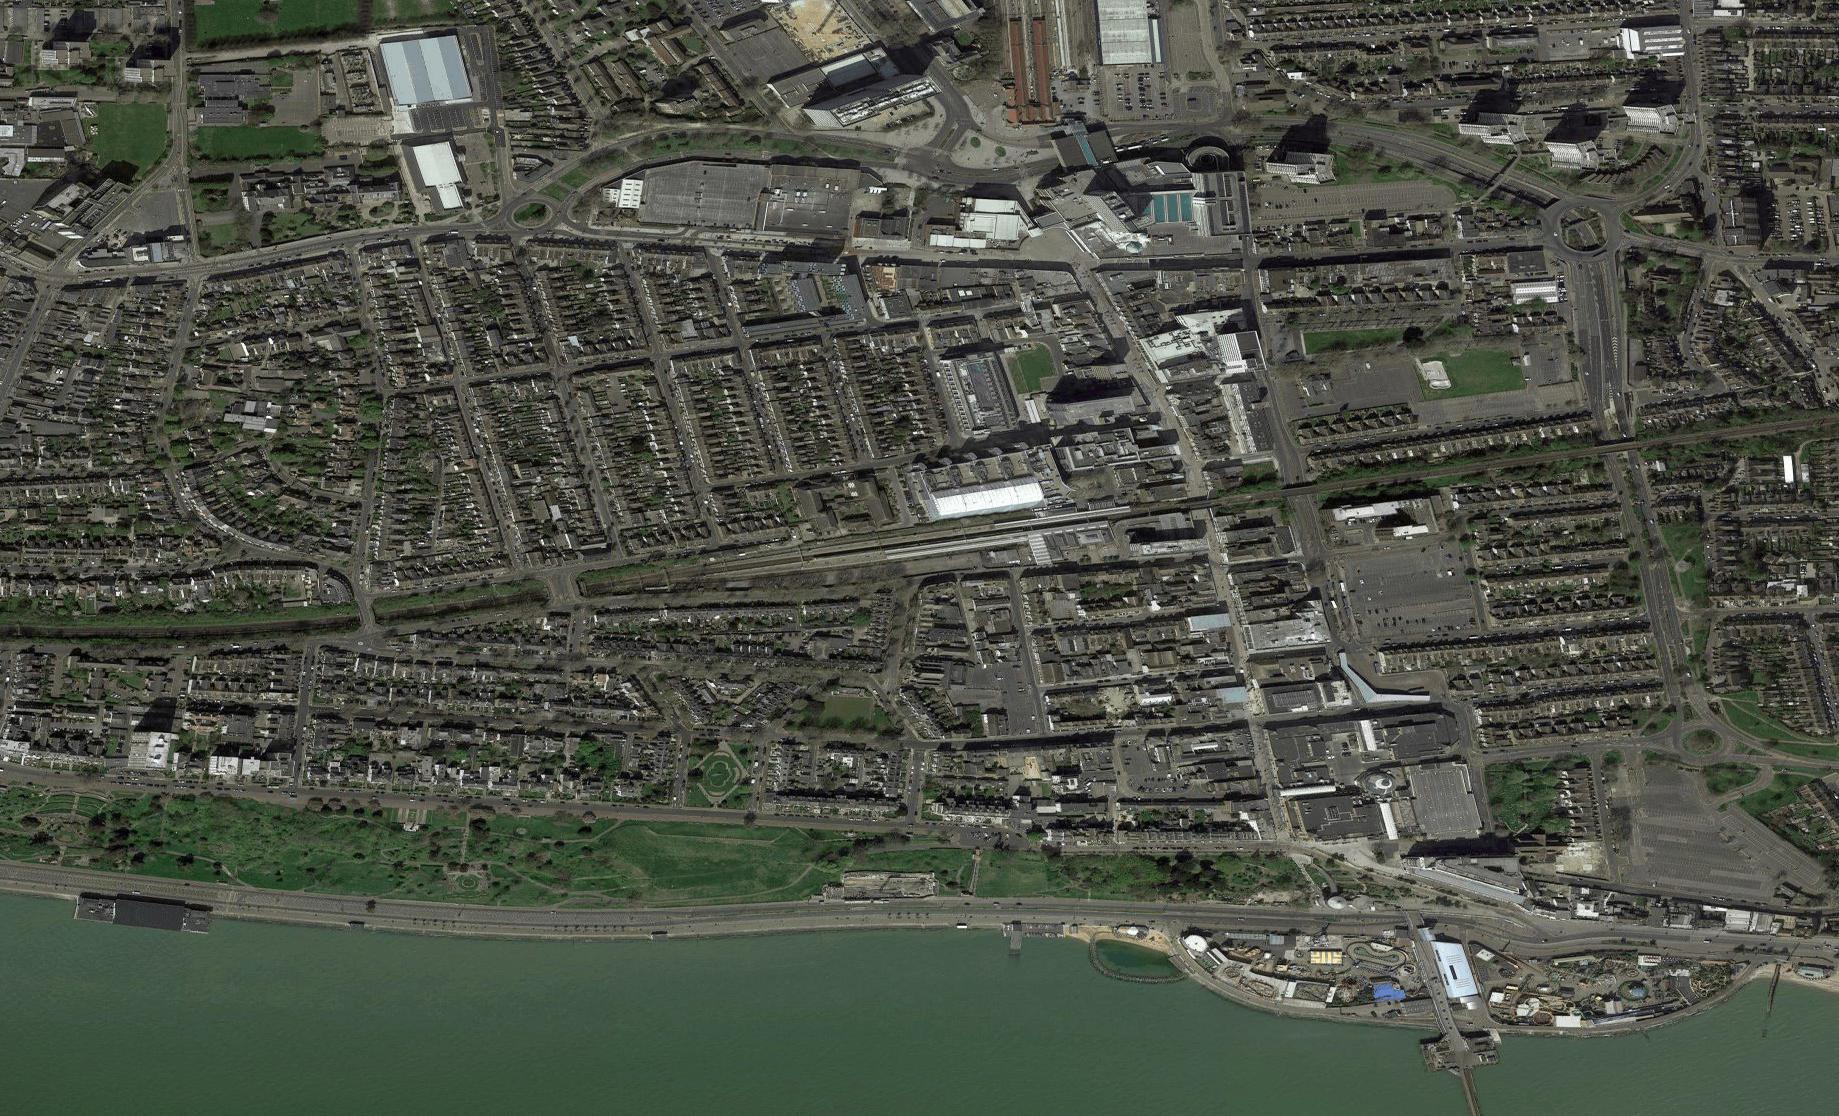industrial: (196, 18, 504, 225)
motorway: (3, 860, 389, 930), (1169, 885, 1579, 943), (783, 877, 1165, 936), (390, 891, 780, 935), (1578, 909, 1839, 962)
train_station: (821, 458, 1131, 569)
